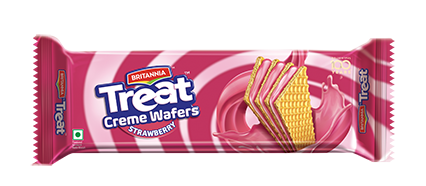VEG: (72, 129, 84, 140)
